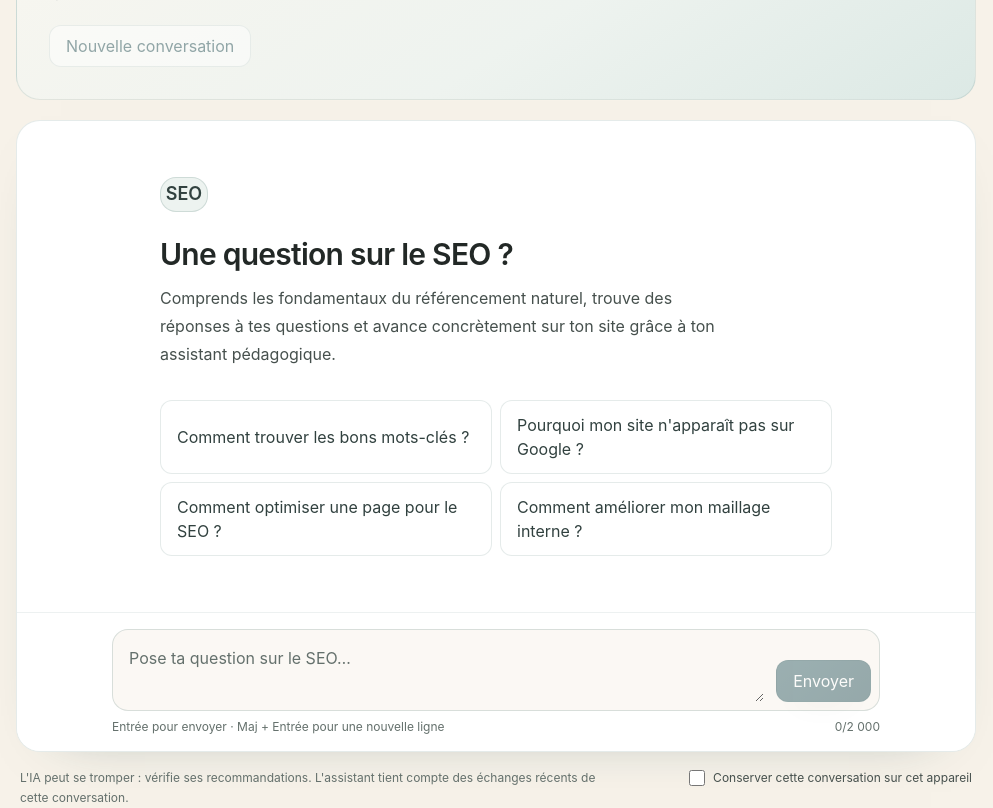
Test case: Assistant › envoie avec Entrée, garde Maj + Entrée et efface une nouvelle conversation
This screenshot has width=993, height=808.
(page scrolled)
Type "Comment progresser ?" into the text box with placeholder "Pose ta question sur le SEO…" at x=443, y=670, box [121,638,764,702]
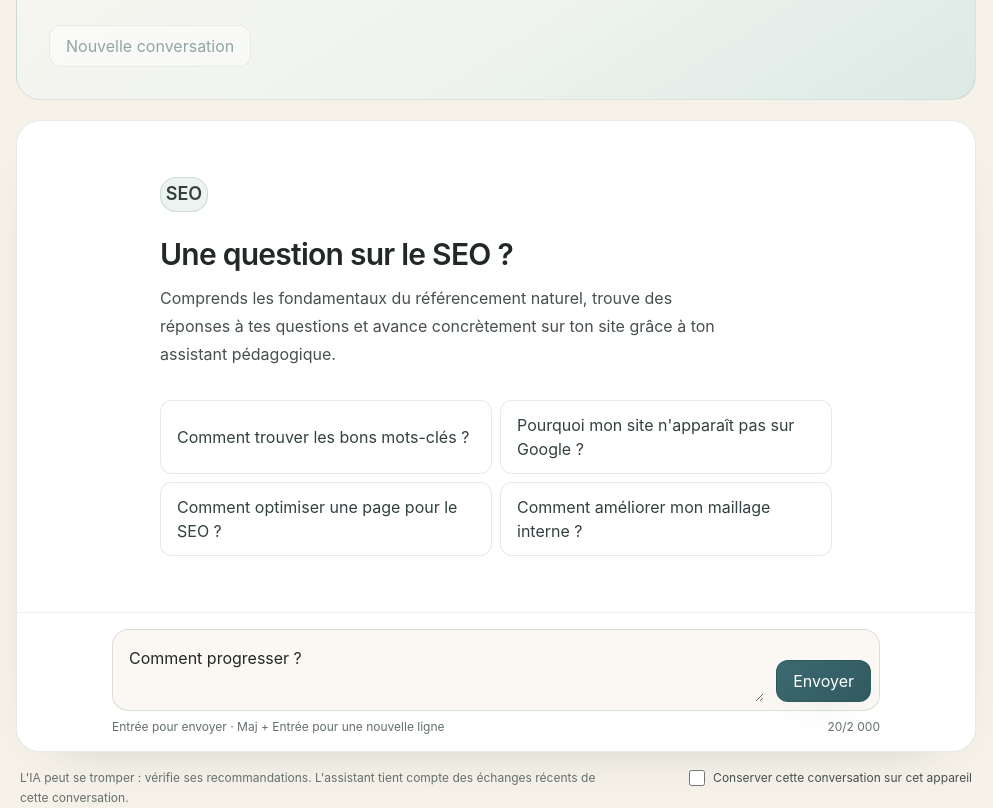
Press Enter in the text box, box [121,638,764,702]
Press Enter in the text box, box [121,638,764,702]
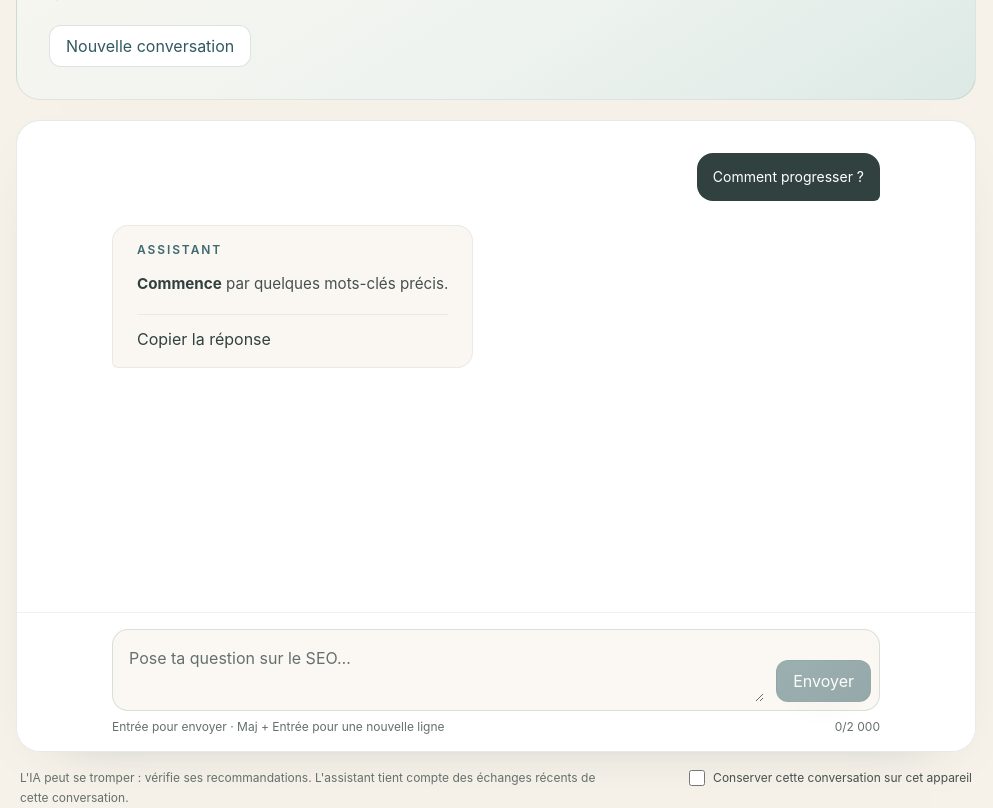
Now the text "Comment progresser ?" is shown, box [697,153,880,201]
Click the button "Nouvelle conversation" at x=150, y=46, box [49,25,251,67]
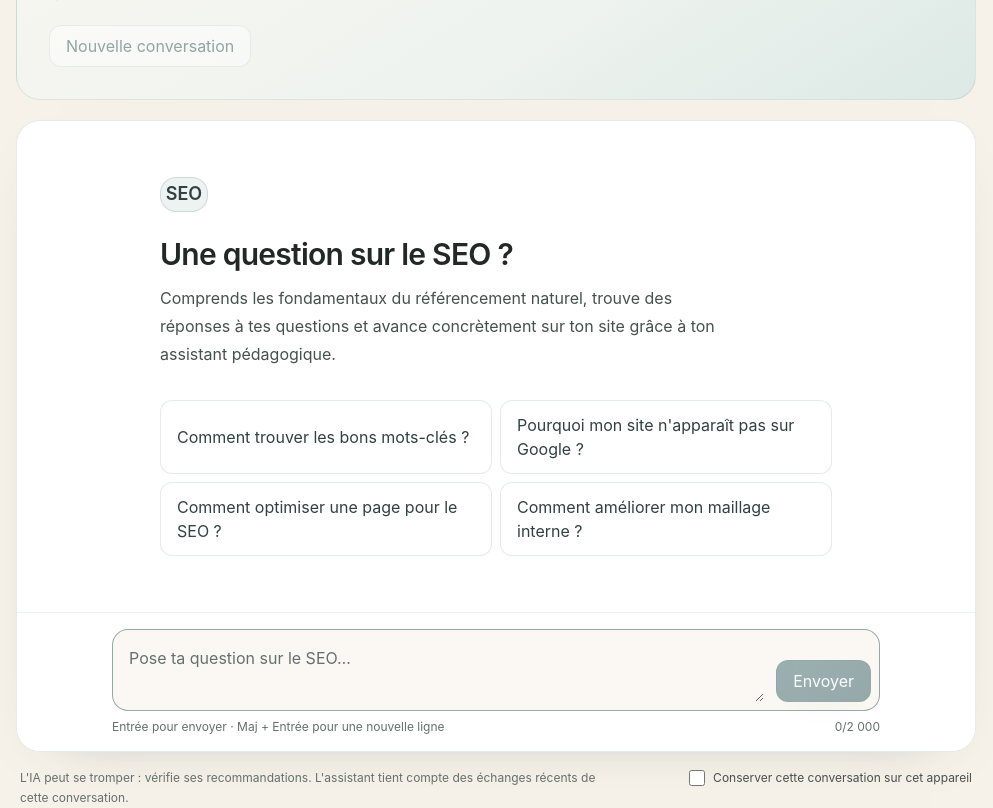
Now the text "Comment progresser ?" is gone
Now the text "Une question sur le SEO ?" is shown, box [160,236,513,272]
